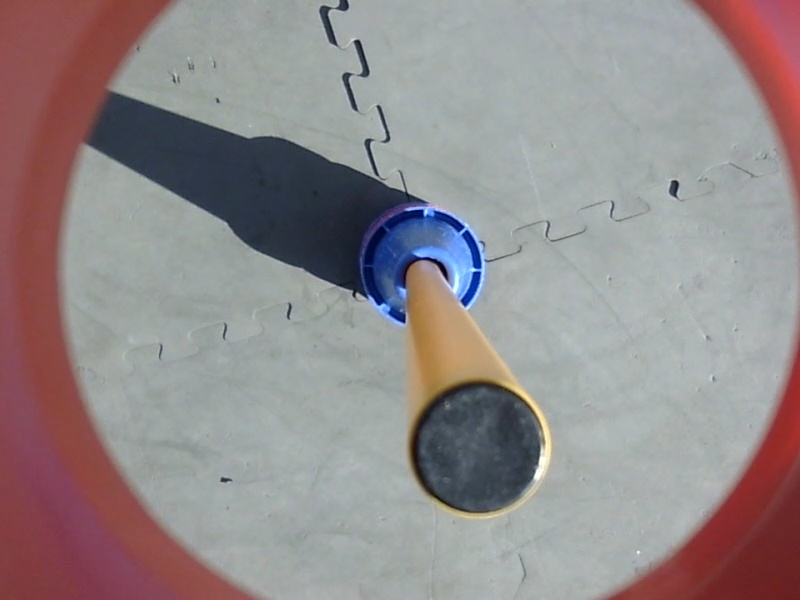tip: (402, 374, 557, 525)
